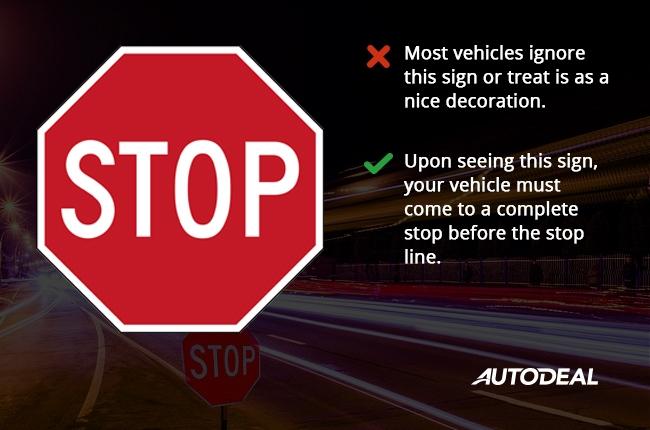stopsign: (36, 45, 325, 336)
